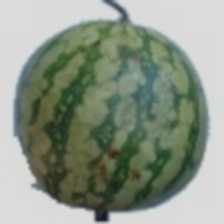watermelon: (10, 46, 185, 221)
